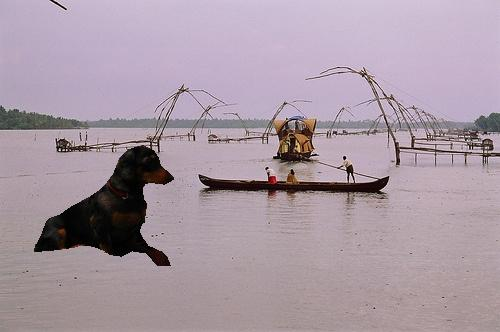tampered: (35, 146, 174, 266)
